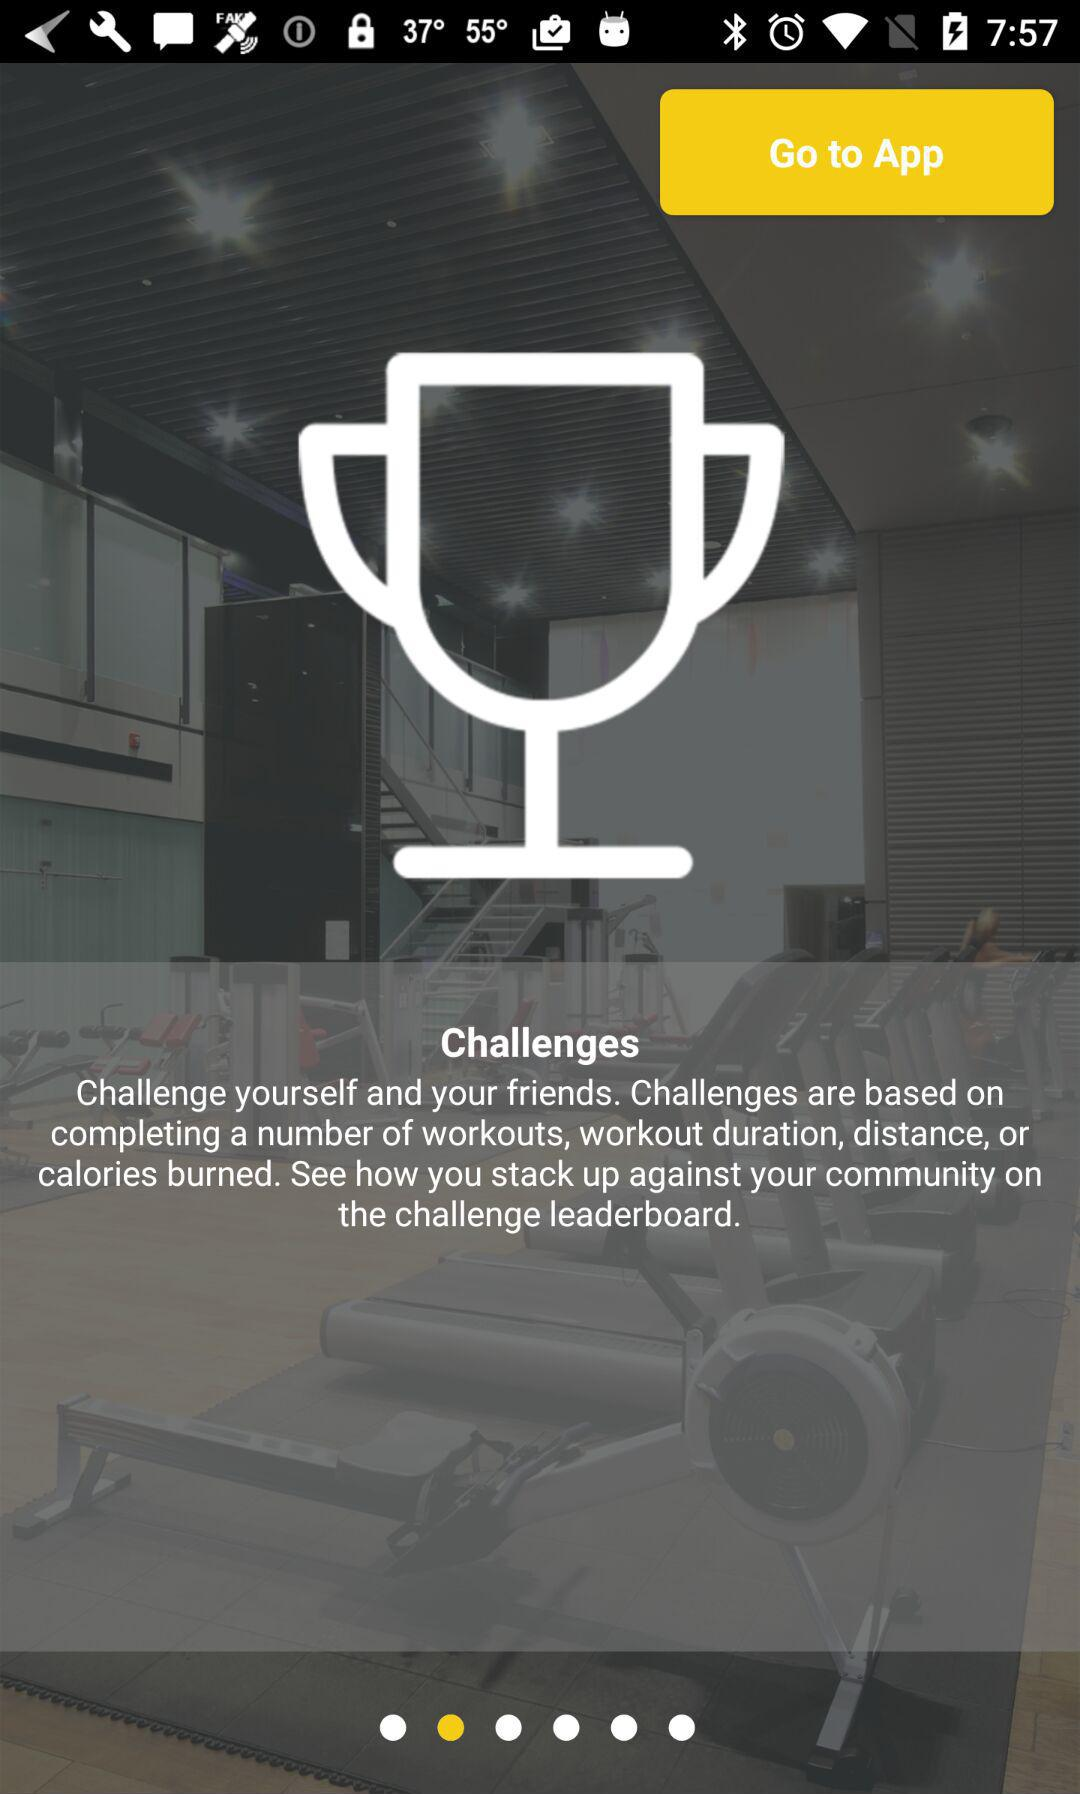BackgroundImage: (1, 64, 1080, 1794)
Image: (293, 351, 787, 880)
PageIndicator: (379, 1713, 697, 1743)
Text: (38, 1076, 1044, 1235), (442, 1025, 641, 1067)
TextButton: (659, 88, 1054, 217)
UpperTaskBar: (1, 1, 1080, 64)
